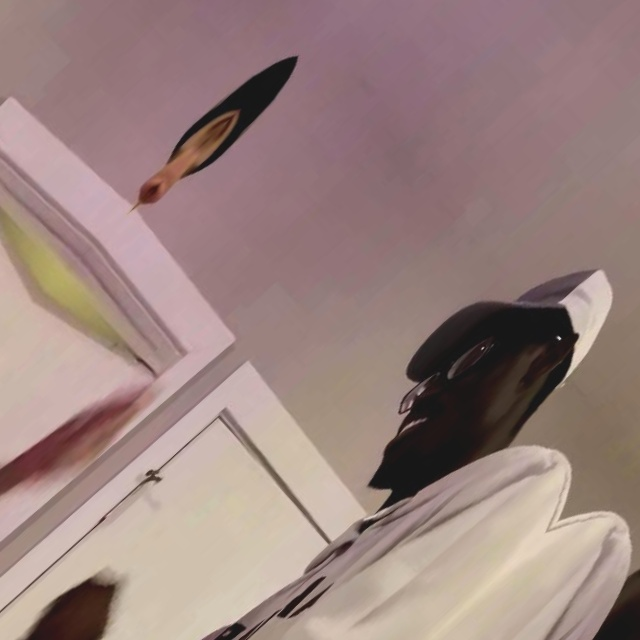Rock: (4, 364, 158, 511), (19, 557, 139, 640)
